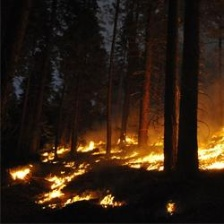fire: (6, 124, 224, 213)
